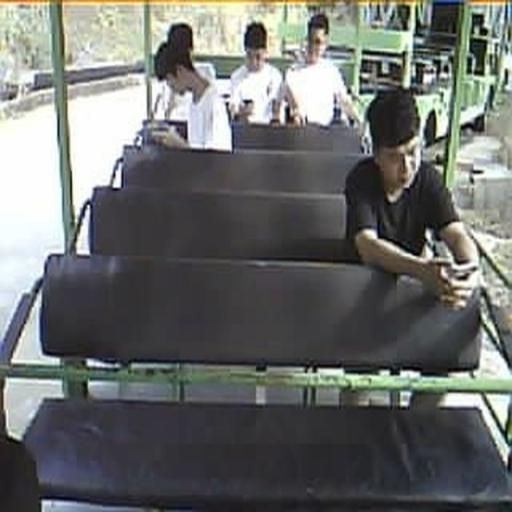persona: (344, 86, 484, 310), (151, 22, 233, 152), (284, 13, 362, 131), (152, 22, 214, 120), (228, 21, 284, 126)
